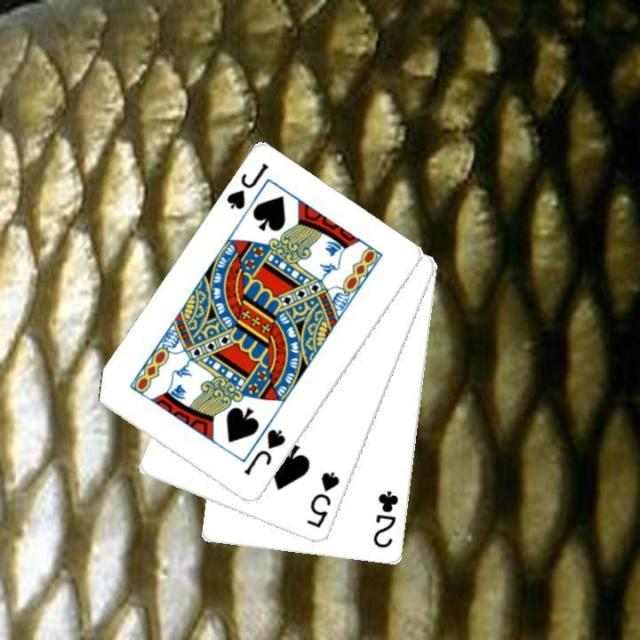2C: (370, 487, 401, 550)
5S: (303, 468, 342, 530)
JS: (222, 159, 271, 213), (240, 425, 288, 477)
